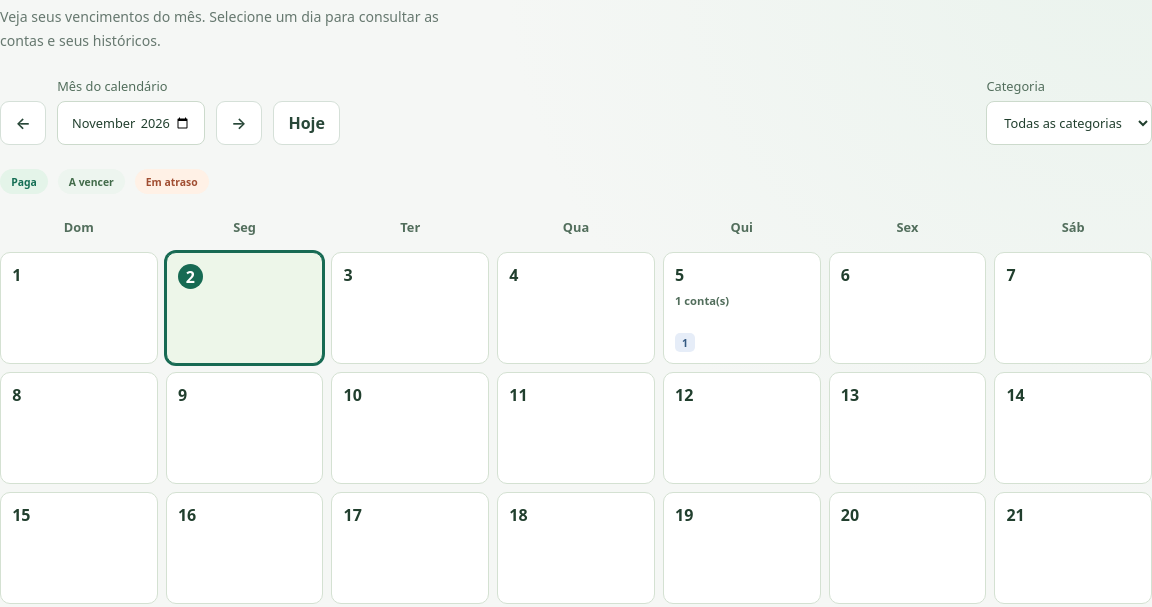
Test: filtrar categoria atualiza contagem e lista de contas do dia
The image size is (1152, 607).
Click the button "5 1 conta(s) 1" at x=742, y=308, box top-left (663, 252), bottom-right (820, 364)
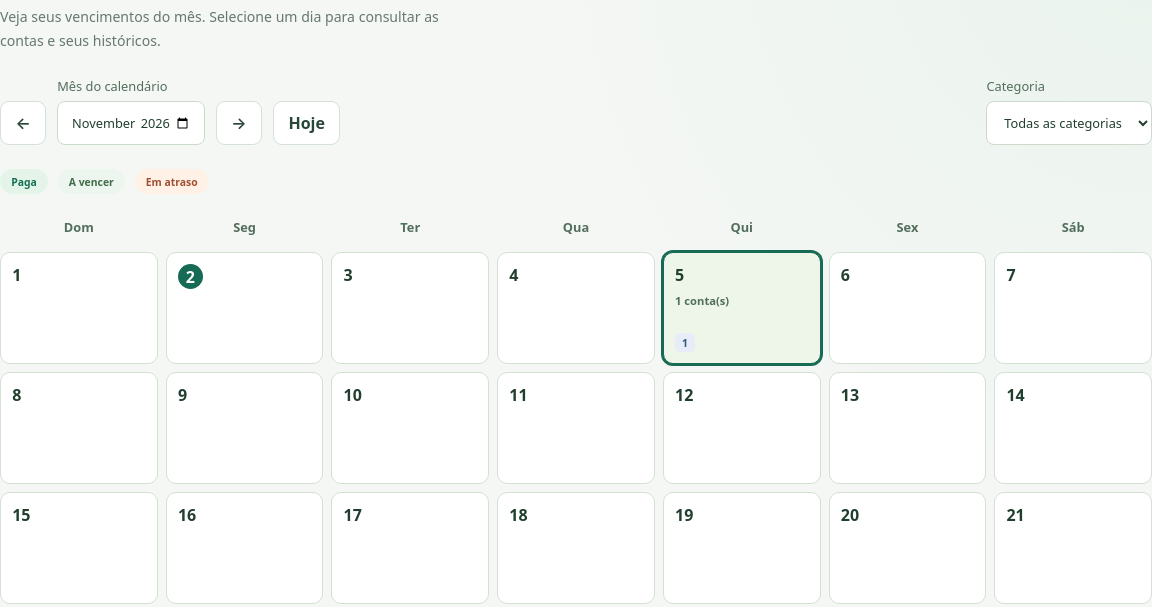
Select "Saúde" in the dropdown labelled "Categoria" at x=1069, y=123, box top-left (986, 101), bottom-right (1151, 145)
(page scrolled)
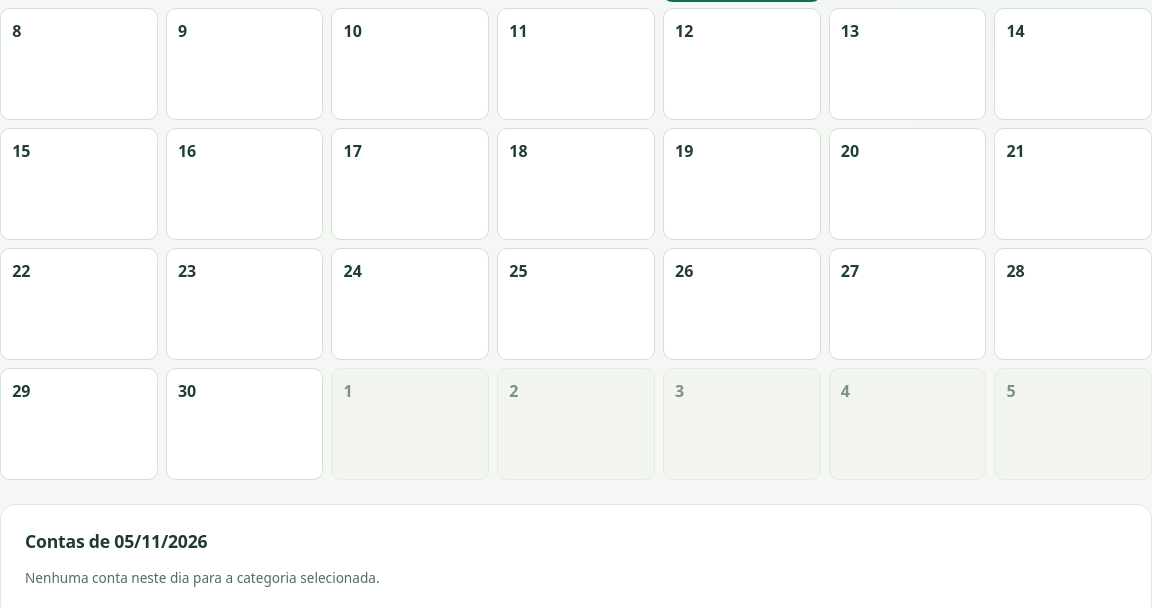
Check: the element with class "calendar-selection" shows "Nenhuma conta", box top-left (25, 568), bottom-right (190, 587)
